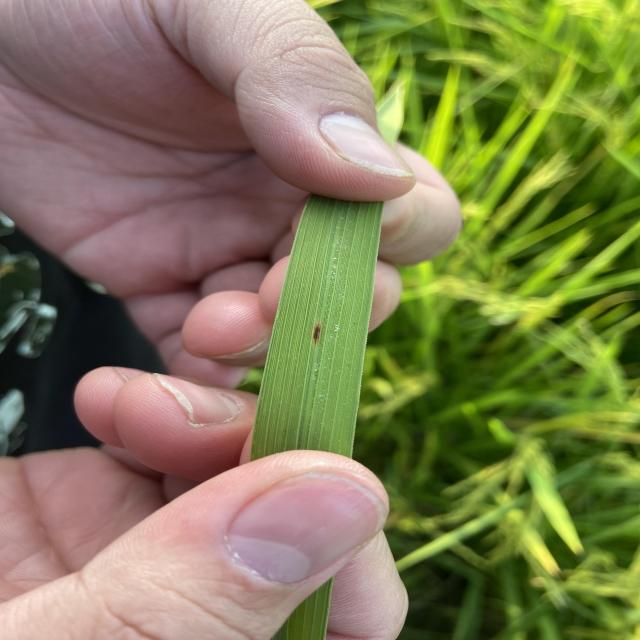Dom nau: (313, 324, 320, 345)
